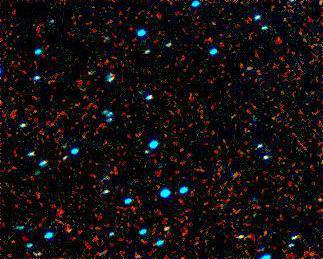star: (53, 218, 83, 248)
